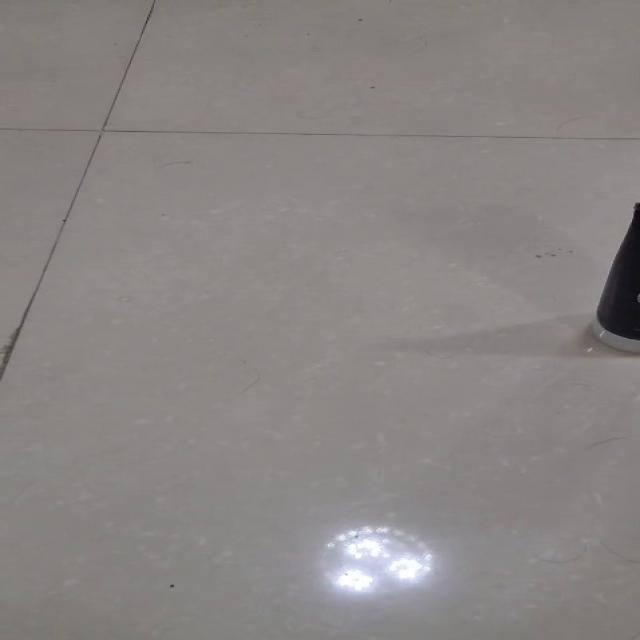plastic: (590, 201, 638, 352)
